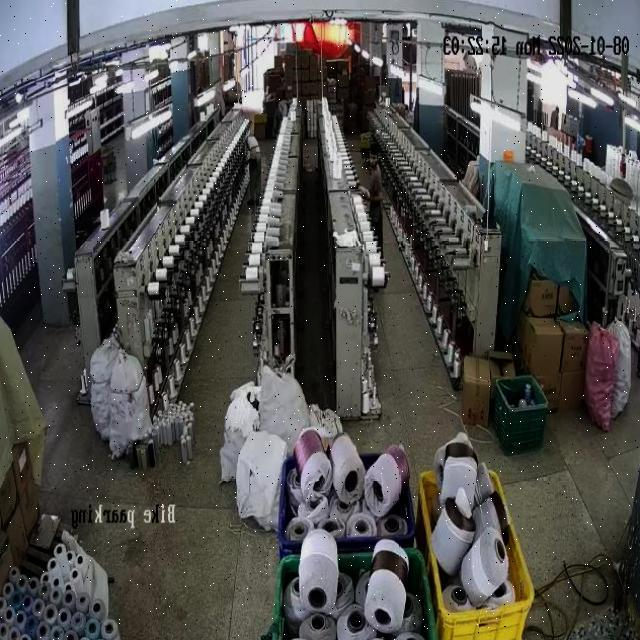person: (368, 142, 383, 244), (244, 132, 262, 206)
